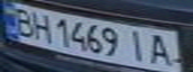1: (51, 16, 72, 47)
4: (66, 20, 87, 52)
6: (84, 22, 103, 55)
9: (100, 25, 124, 57)
A: (145, 30, 178, 68)
B: (6, 6, 39, 38)
H: (27, 10, 54, 43)
I: (124, 28, 151, 63)
